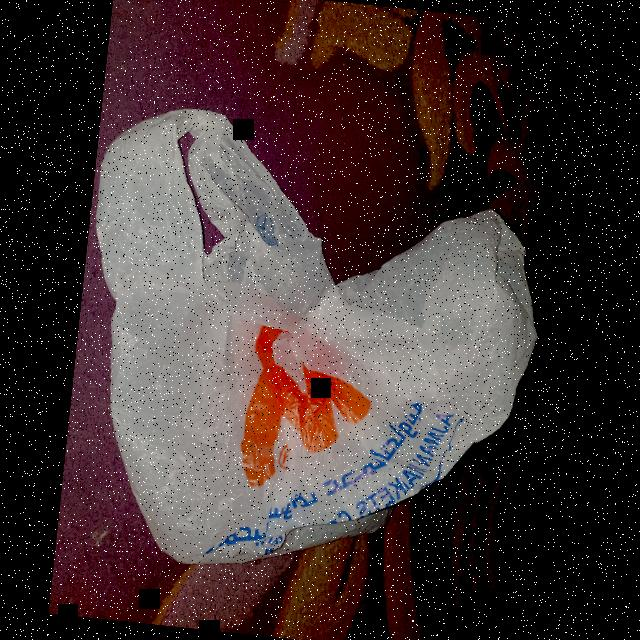plastic_bag: (54, 88, 566, 610)
